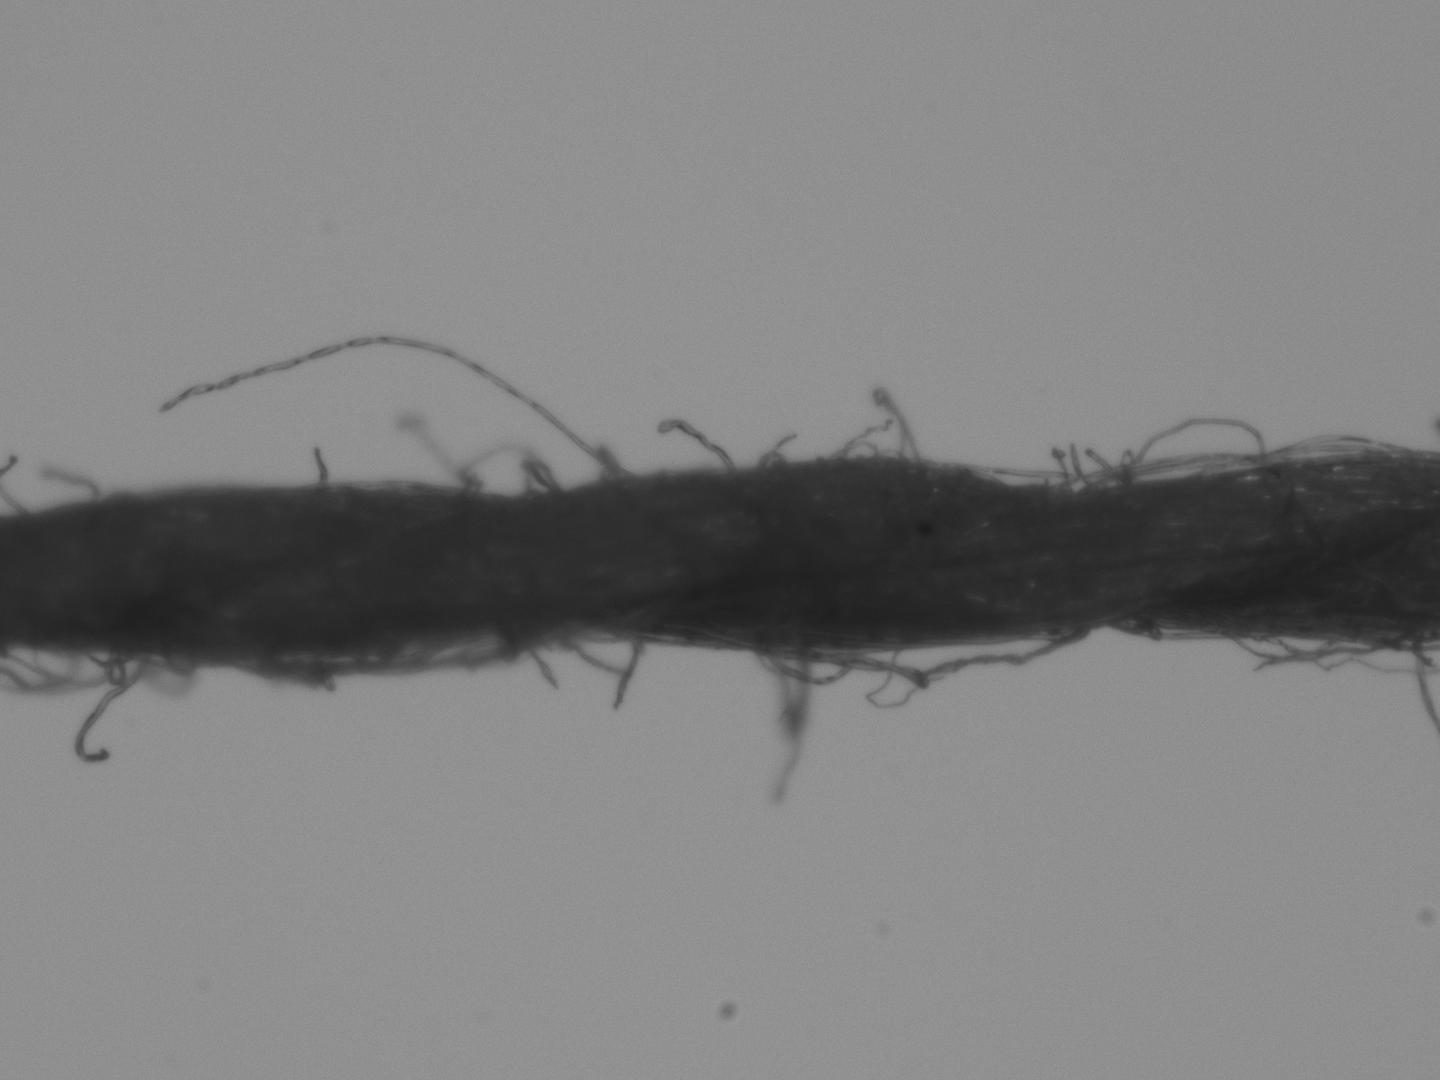loop_fiber: (789, 627, 1089, 686), (1093, 408, 1260, 495), (252, 633, 536, 682), (1273, 432, 1412, 465), (1234, 635, 1387, 661), (3, 646, 109, 682), (965, 458, 1075, 488), (827, 440, 881, 459), (161, 652, 198, 680), (755, 444, 788, 466)
